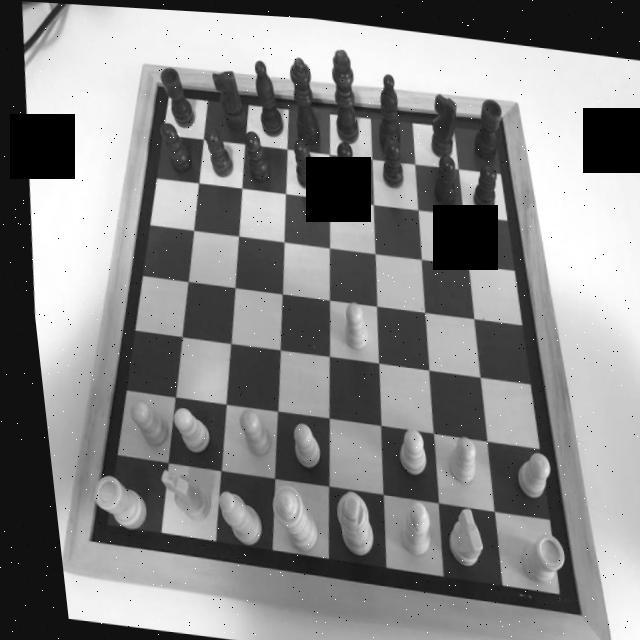chess-table-corners: (68, 519, 94, 552), (552, 590, 579, 620), (488, 99, 510, 127), (146, 66, 162, 92)
